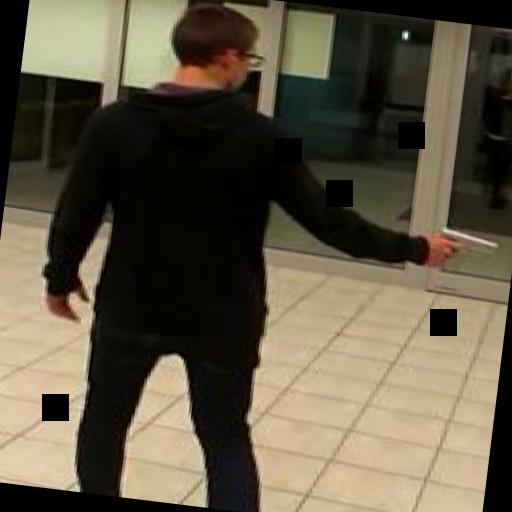Handgun: (428, 222, 498, 267)
